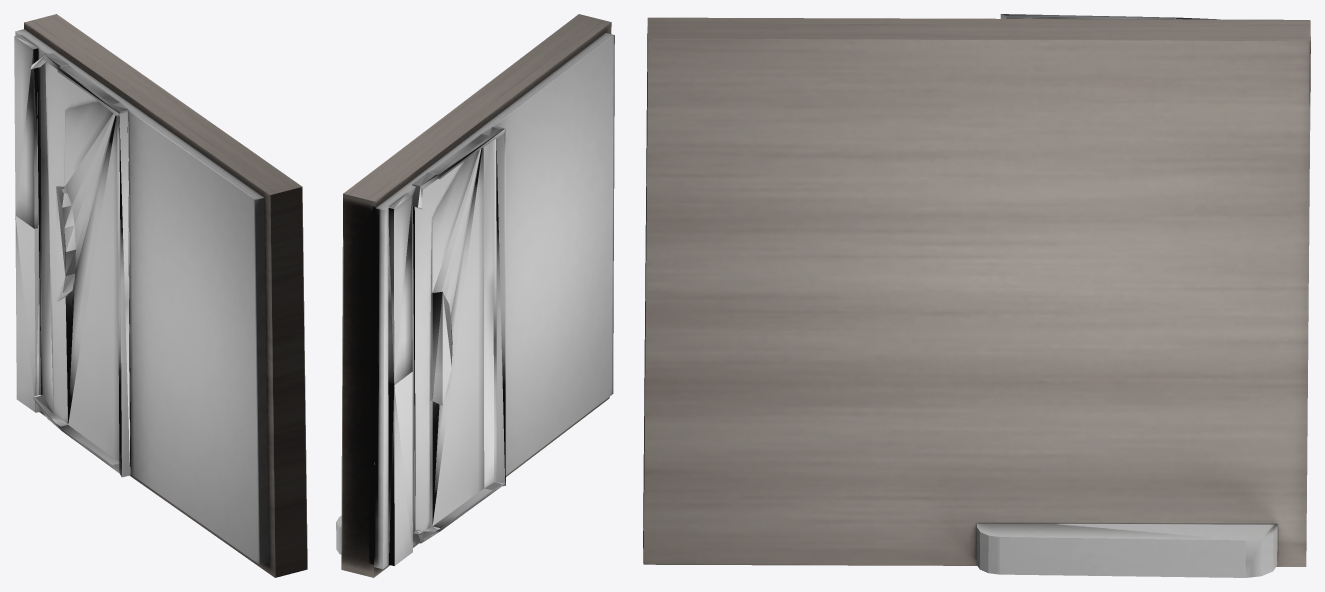
The model's file is bottom_door_brighter1.glb.
3 views of the same model, side by side, from view 1: azimuth 30°, elevation 25°; view 2: azimuth 150°, elevation 25°; view 3: azimuth 270°, elevation 25° (orthographic). The views are drawn at different scales.
Parts seen in each view (by area): view 1: frl_apartment_refrigerator_door_02.001; view 2: frl_apartment_refrigerator_door_02.001; view 3: frl_apartment_refrigerator_door_02.001.
Boxes of the visible parts, bbox=[...] form: frl_apartment_refrigerator_door_02.001: bbox=[14, 14, 307, 577]; frl_apartment_refrigerator_door_02.001: bbox=[336, 14, 614, 577]; frl_apartment_refrigerator_door_02.001: bbox=[643, 14, 1310, 577].
Size of the model in its own units: 0.1546 by 0.7021 by 0.8039.
Materials: 1 (1 with a texture image).
